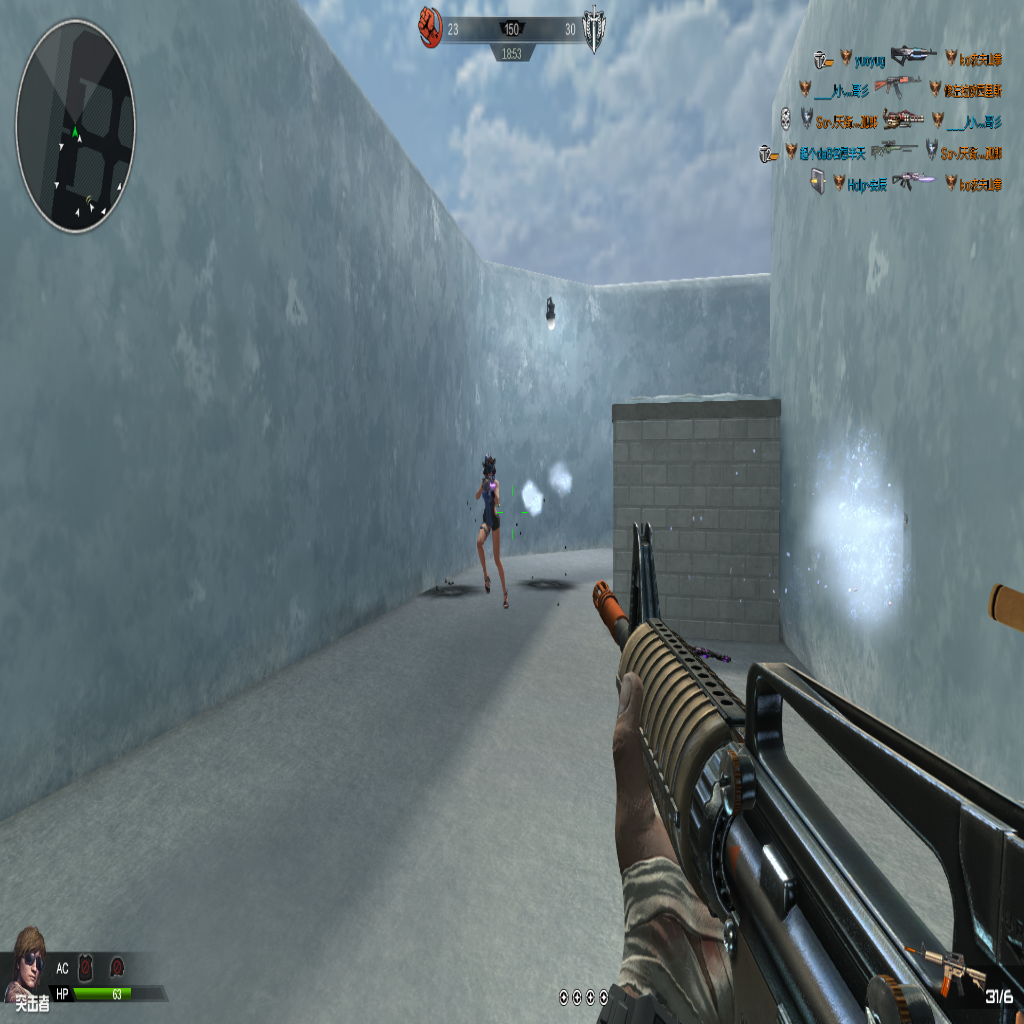ct: (474, 454, 507, 603)
